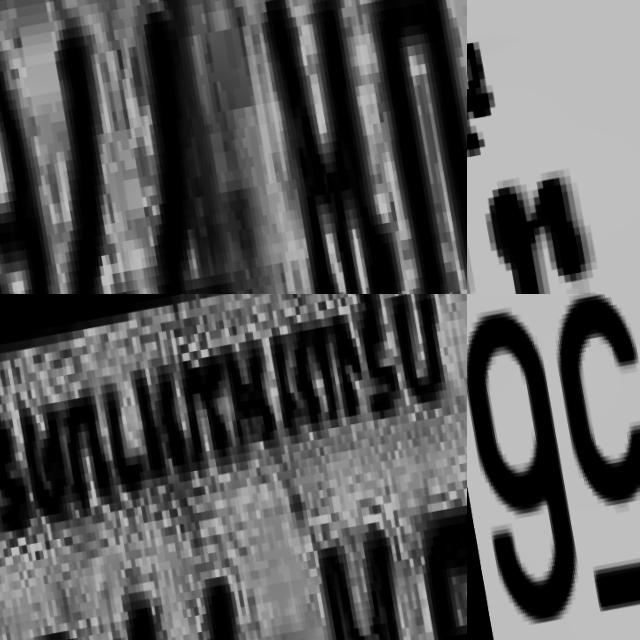license-plate: (0, 294, 467, 640), (0, 0, 467, 294), (467, 294, 640, 640), (467, 0, 640, 294)
